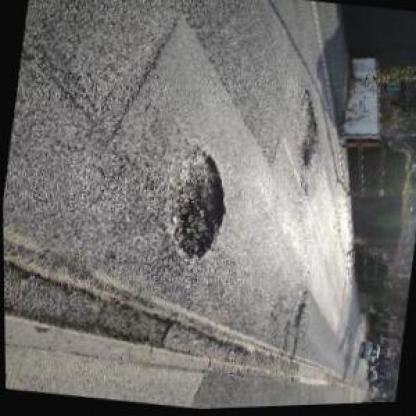pothole: (155, 143, 236, 268), (288, 89, 326, 169)
